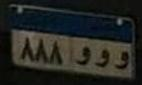8: (33, 36, 49, 65), (19, 35, 34, 62), (50, 41, 63, 65)
waw: (94, 46, 111, 70), (76, 44, 92, 67), (114, 50, 129, 73)
